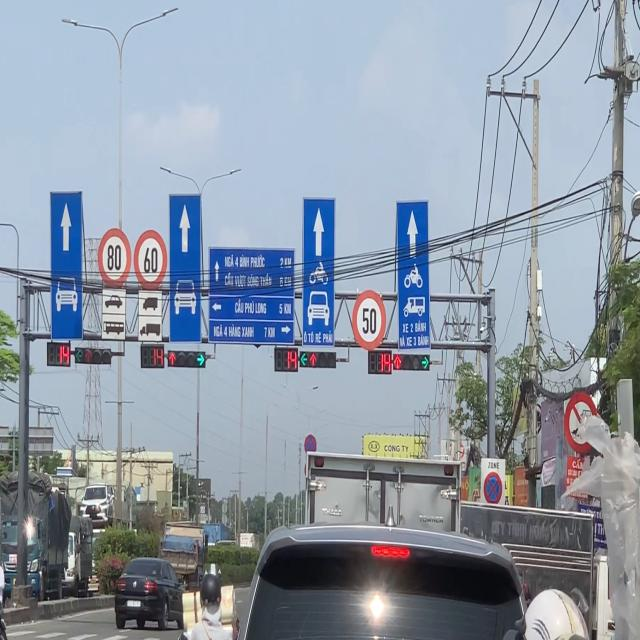Cam dung va do: (483, 471, 503, 508)
Toc do toi da: (350, 290, 388, 348), (133, 229, 168, 290), (98, 229, 130, 287)
